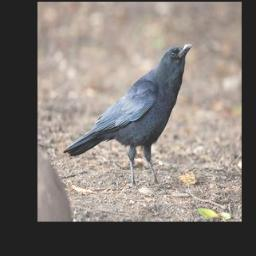Crow: (65, 43, 195, 191)
